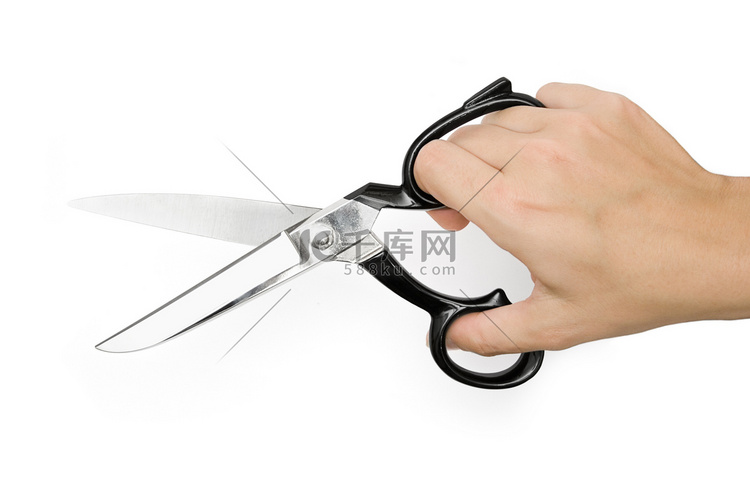scissors: (27, 75, 572, 397)
